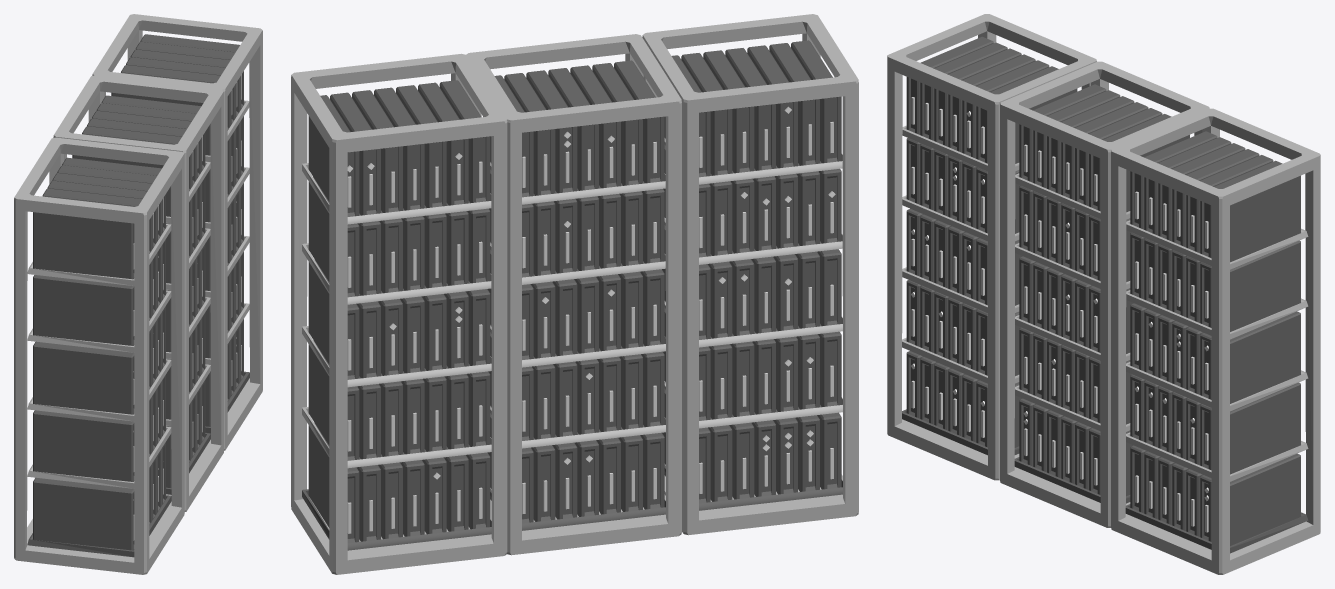
The model's file is env_test_interior_server.FBX.
3 renders of one model, left to right at view 1: azimuth 30°, elevation 25°; view 2: azimuth 150°, elevation 25°; view 3: azimuth 270°, elevation 25°, orthographic. The views are drawn at different scales.
Parts seen in each view (by area): view 1: server; view 2: server; view 3: server.
Part boxes in pixels (<box>): server: <box>14,14,262,574</box>; server: <box>291,14,858,574</box>; server: <box>887,14,1320,574</box>.
Bounding box in the file's own units: 129 × 124 × 129.
